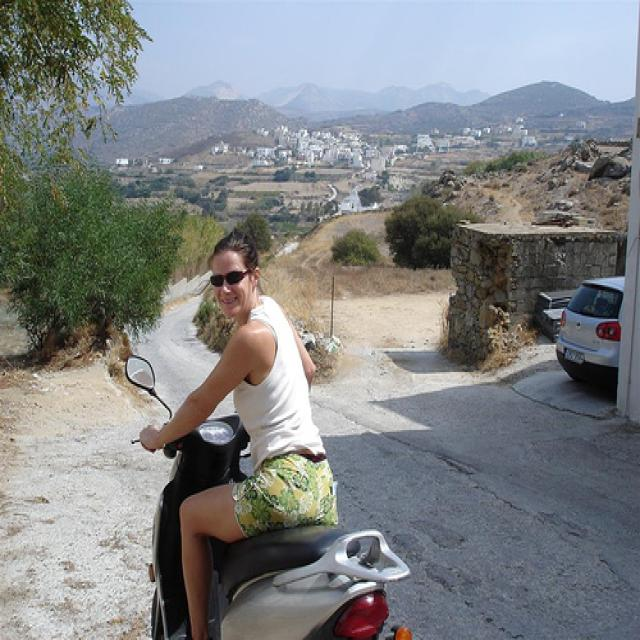light_vehicle: (553, 273, 623, 391)
